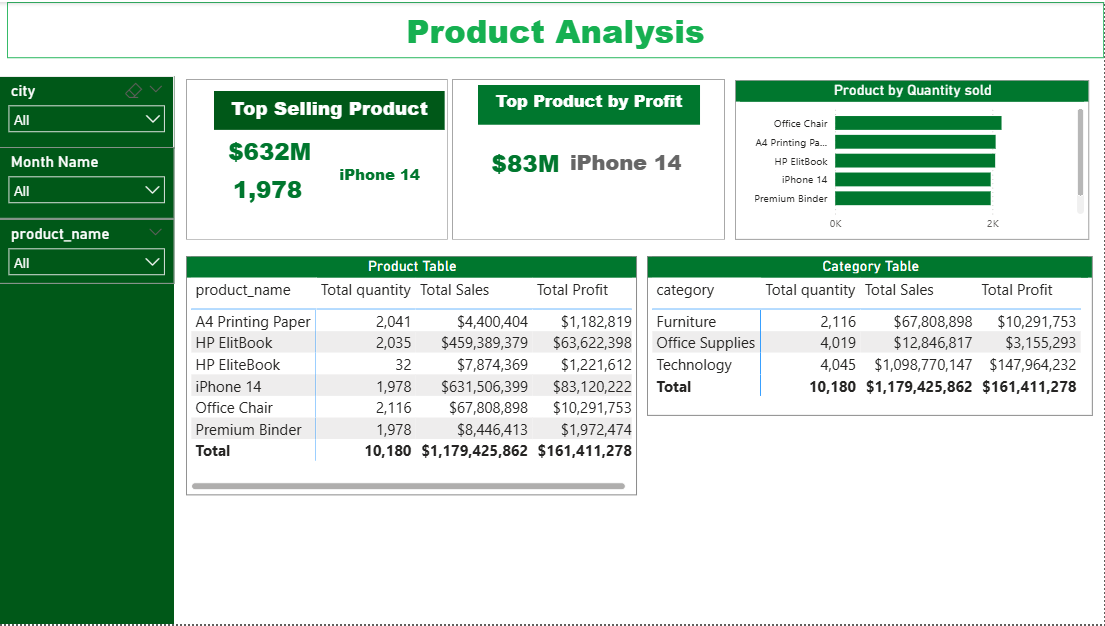

The page's visual inventory and layout, read from the dashboard file:
{"tool":"powerbi","page":{"name":"Product Analysis Report","canvas":[1280,720],"ordinal":1},"visuals":[{"type":"textbox","box":[10.2,0,1269.8,64.8],"z":0},{"type":"shape","box":[525.5,89.1,316,186.4],"z":0,"group":"g1"},{"type":"shape","box":[217.4,89.1,303.3,186.4],"z":1000},{"type":"card","title":"Total Sales","fields":{"Values":["sales_db sales.Total Sales"]},"box":[258.1,143,112.9,60.3],"z":2000},{"type":"card","title":"Total Sales","fields":{"Values":["sales_db sales.Total Profit"]},"box":[545.2,149.3,130.8,75.2],"z":2000,"group":"g1"},{"type":"clusteredBarChart","title":"Product by Quantity sold","fields":{"Category":["sales_db sales.product_name"],"Y":["sales_db sales.Total quantity"]},"box":[853.3,90,410,185.1],"z":3000},{"type":"textbox","box":[555.2,96.1,257,46.3],"z":4000,"group":"g1"},{"type":"card","title":"Total Sales","fields":{"Values":["sales_db sales.Total quantity"]},"box":[256.3,187.4,112.3,60.2],"z":4000},{"type":"pivotTable","title":"Product Table","fields":{"Rows":["sales_db sales.product_name"],"Values":["sales_db sales.Total quantity","sales_db sales.Total Sales","sales_db sales.Total Profit"]},"box":[217.6,294,522.1,276.7],"z":5000},{"type":"textbox","box":[249.9,103,267.4,45.1],"z":6000},{"type":"card","title":"Total Sales","fields":{"Values":["Min(sales_db sales.product_name)"]},"box":[649.4,145.8,154,82.2],"z":6000,"group":"g1"},{"type":"pivotTable","title":"Category Table","fields":{"Rows":["sales_db sales.category"],"Values":["sales_db sales.Total quantity","sales_db sales.Total Sales","sales_db sales.Total Profit"]},"box":[751.3,294,516.3,185.2],"z":7000},{"type":"card","title":"Total Sales","fields":{"Values":["Min(sales_db sales.product_name)"]},"box":[381.7,167.8,119.2,67.1],"z":8000},{"type":"slicer","title":"Product by Quantity sold","fields":{"Values":["sales_db sales.city"]},"box":[1.2,85.2,203.1,83.5],"z":9000},{"type":"slicer","title":"Product by Quantity sold","fields":{"Values":["sales_db sales.Month Name"]},"box":[1.2,167.8,202.6,83.3],"z":10000},{"type":"group","id":"g1","title":"Group 1","box":[525.5,89.1,316,186.4],"z":11000},{"type":"slicer","title":"Product by Quantity sold","fields":{"Values":["sales_db sales.product_name"]},"box":[1.2,251.2,202.6,75.2],"z":11001},{"type":"shape","box":[0,326.4,203.7,393.6],"z":11002}]}

Visuals, with their boxes in screenshot pixels (x1, y1, x2, y2), scaled from the page's 1280x720 canvas onto the 1105x626 screenshot:
textbox: select_region(9, 0, 1104, 56)
shape: select_region(454, 77, 726, 240)
shape: select_region(188, 77, 450, 240)
"Total Sales" card: select_region(223, 124, 320, 177)
"Total Sales" card: select_region(471, 130, 584, 195)
"Product by Quantity sold" clusteredBarChart: select_region(737, 78, 1091, 239)
textbox: select_region(479, 84, 701, 124)
"Total Sales" card: select_region(221, 163, 318, 215)
"Product Table" pivotTable: select_region(188, 256, 639, 496)
textbox: select_region(216, 90, 447, 129)
"Total Sales" card: select_region(561, 127, 694, 198)
"Category Table" pivotTable: select_region(649, 256, 1094, 417)
"Total Sales" card: select_region(330, 146, 432, 204)
"Product by Quantity sold" slicer: select_region(1, 74, 176, 147)
"Product by Quantity sold" slicer: select_region(1, 146, 176, 218)
"Group 1" group: select_region(454, 77, 726, 240)
"Product by Quantity sold" slicer: select_region(1, 218, 176, 284)
shape: select_region(0, 284, 176, 625)
